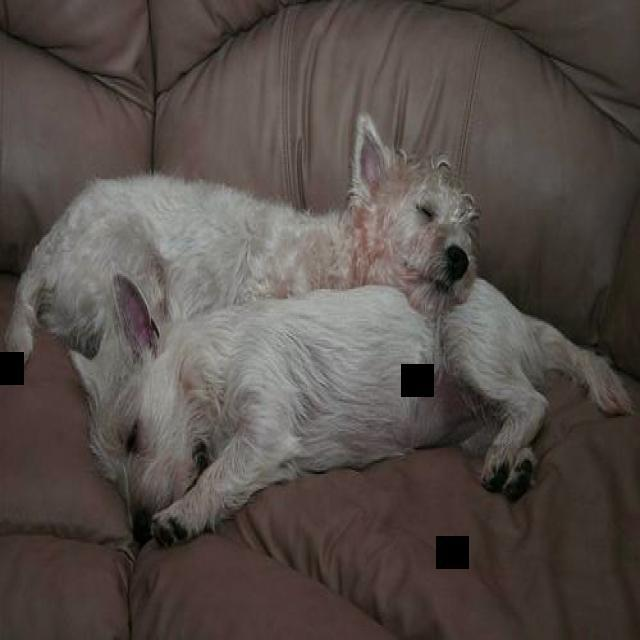adult_dog: (65, 273, 636, 546), (4, 112, 480, 374)
